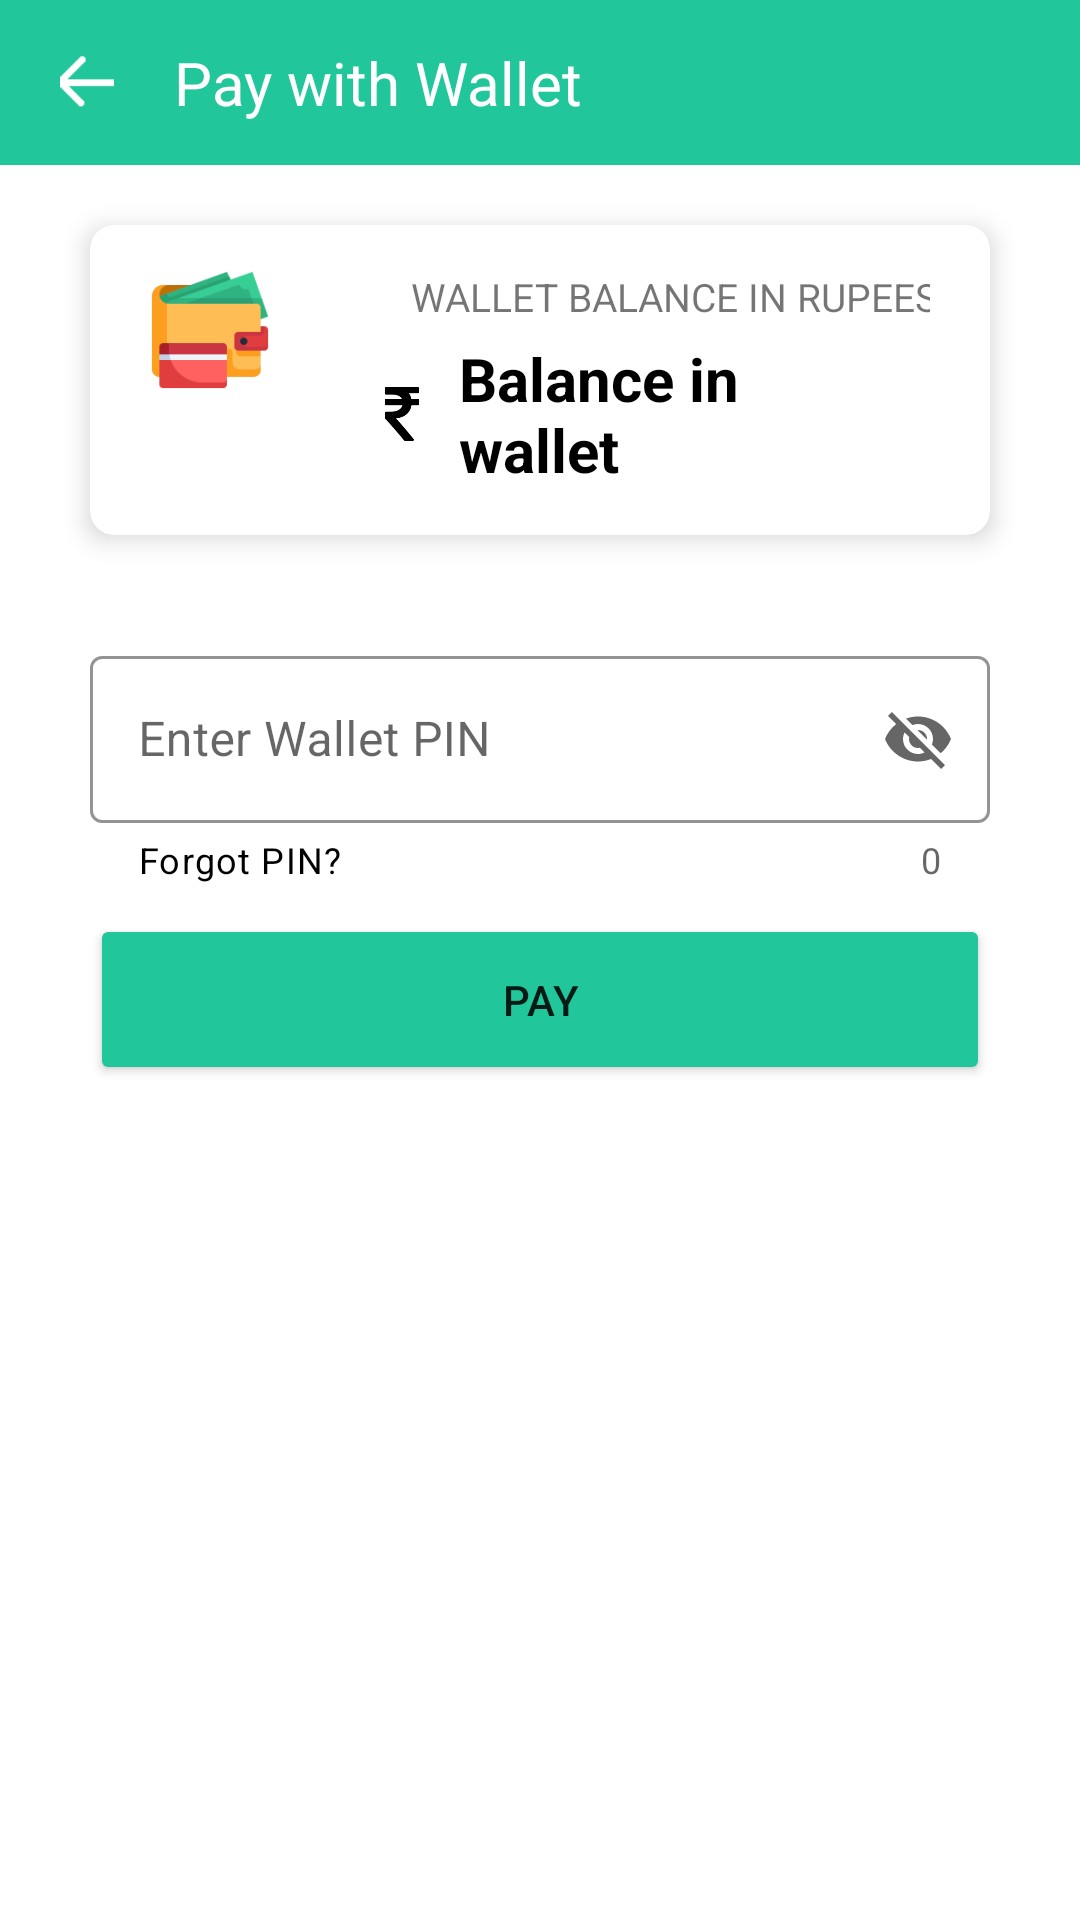

Icon bounding boxes for this 1080*1920 phone screenshot, format [x1=x1, y1=y1, x2=x2, y2=y2]:
arrow: [x1=60, y1=56, x2=114, y2=107]
